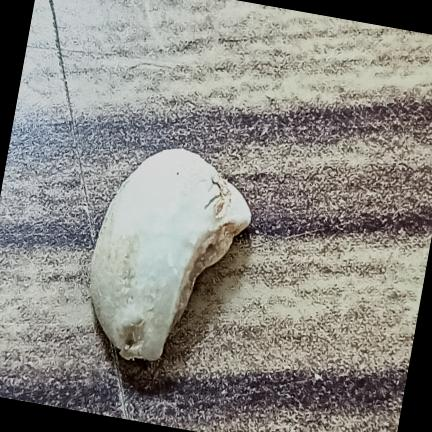cut: (89, 149, 251, 361)
